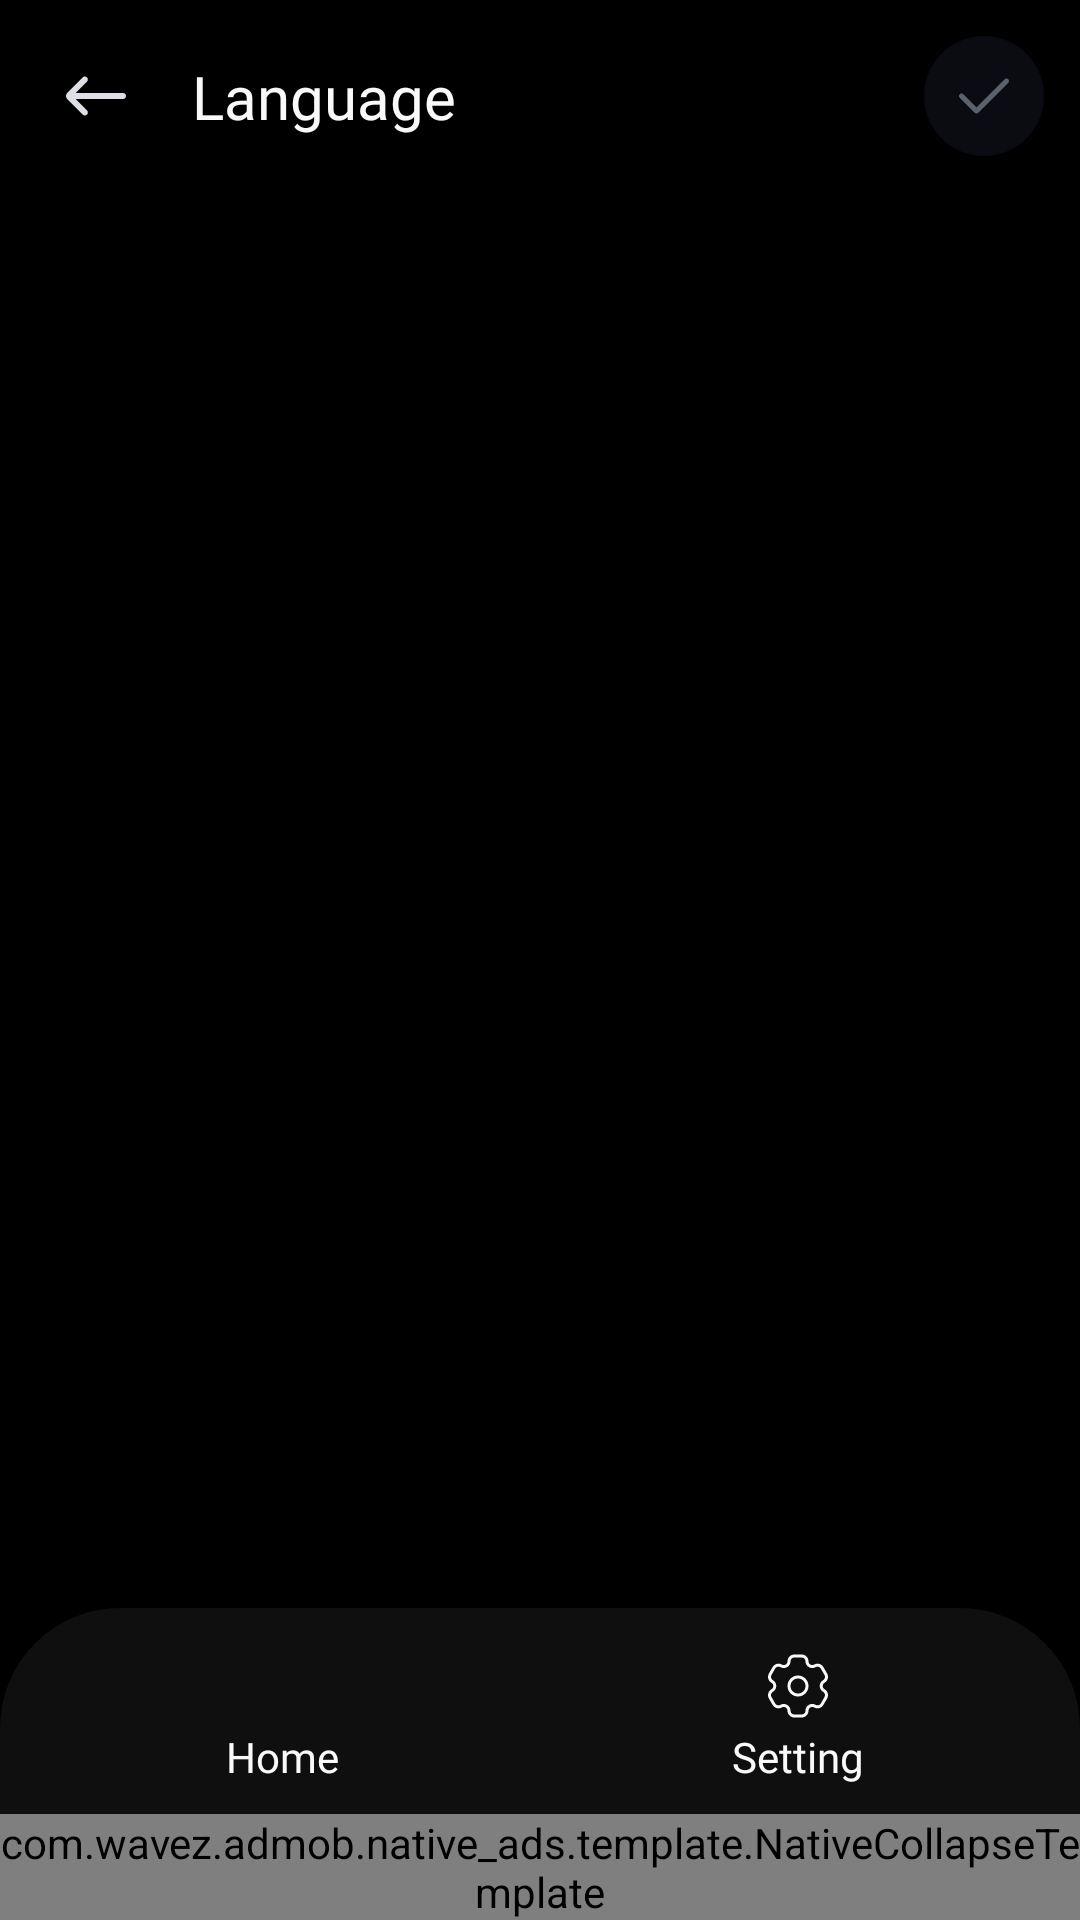

Named icons in this screenshot (1080x1920) and their bounding boxes, (x1, y1, x2, y2):
ac tick: (924, 36, 1044, 156)
back: (66, 76, 126, 116)
